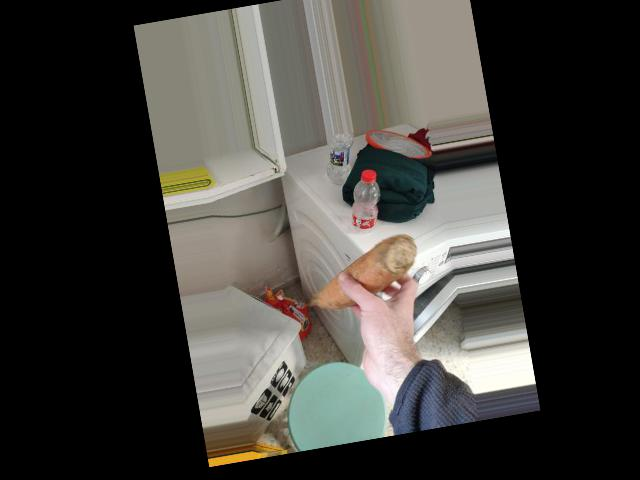sweet_potato: (309, 229, 418, 321)
